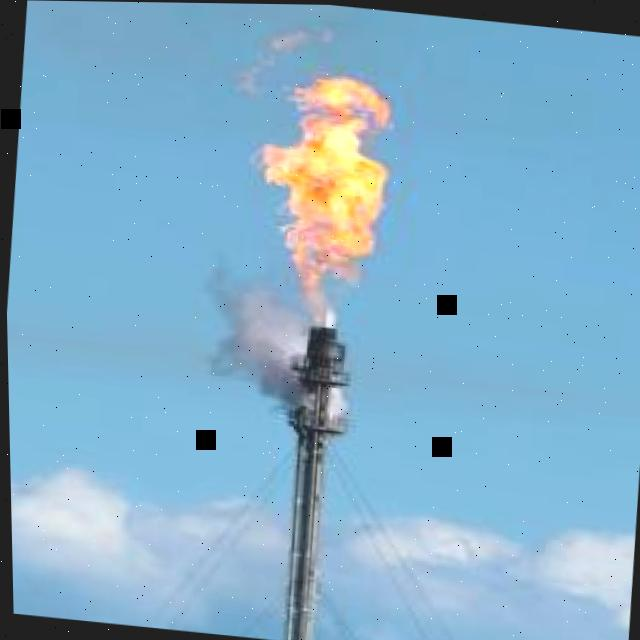fire: (240, 69, 401, 317), (241, 52, 271, 98), (313, 24, 336, 50), (268, 29, 301, 43)
smoke: (195, 256, 312, 414), (329, 388, 350, 412)
